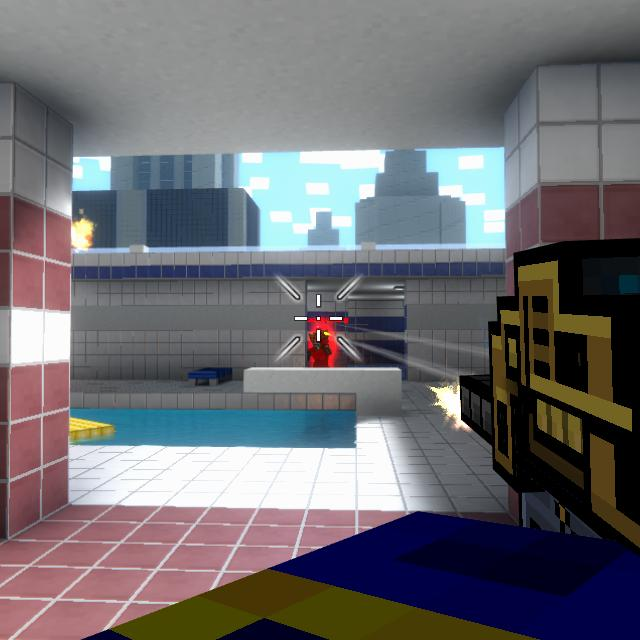Enemy: (308, 328, 332, 367)
